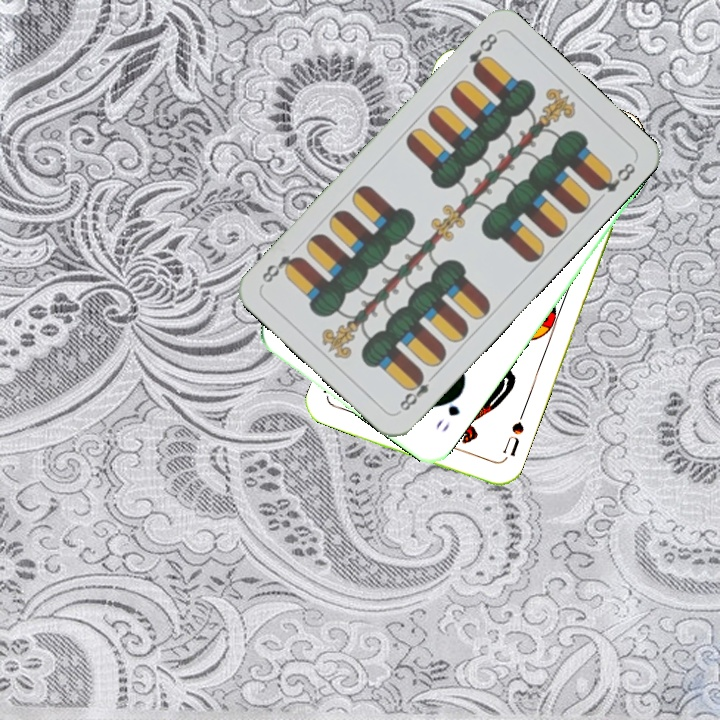E8: (395, 368, 440, 414), (465, 28, 500, 77)
GO: (431, 386, 466, 435)
SU: (498, 417, 527, 459)
